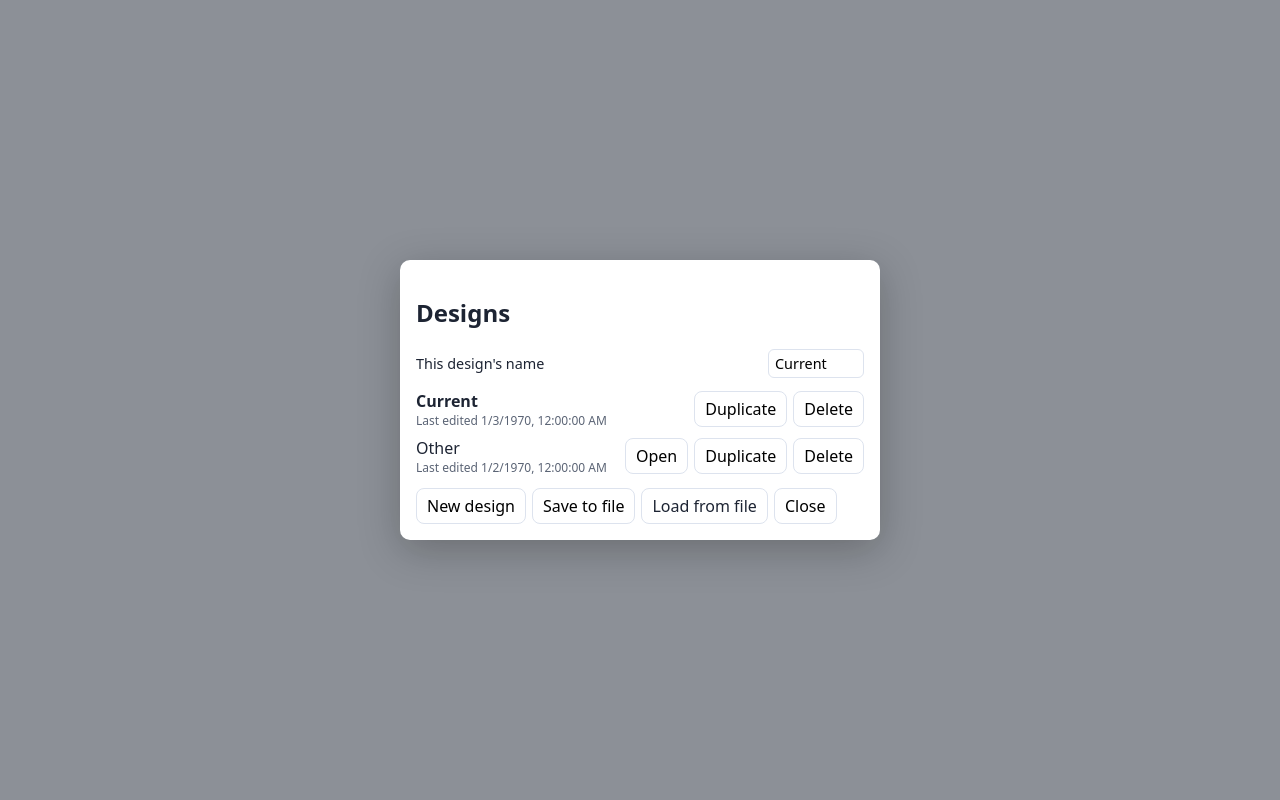
Test: DesignsDialog › duplicates a design
Check: the text "Other" is shown, box [416,437,460,459]
Step 1. Click the button "Duplicate" in the row of "Other" → (741, 456), box [694,438,787,474]
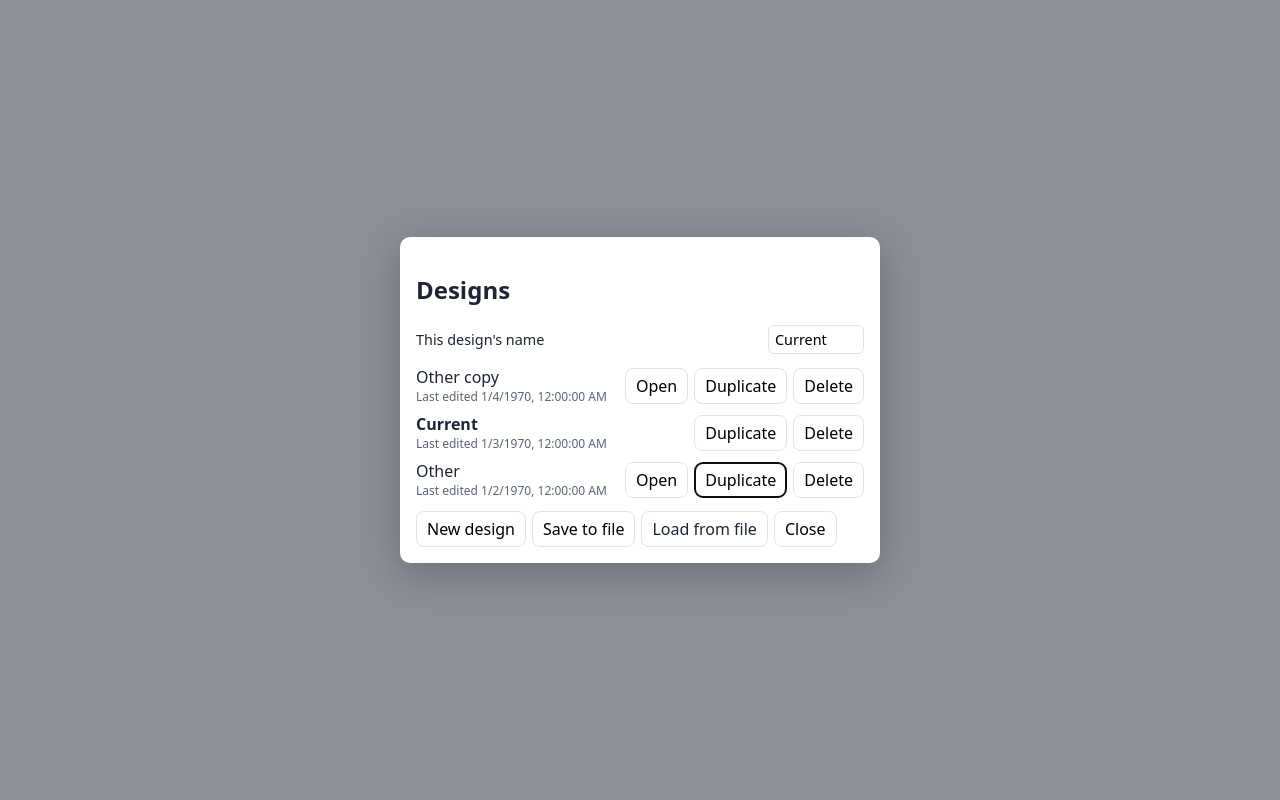
Check: the text "Other copy" is shown, box [416,366,499,388]
